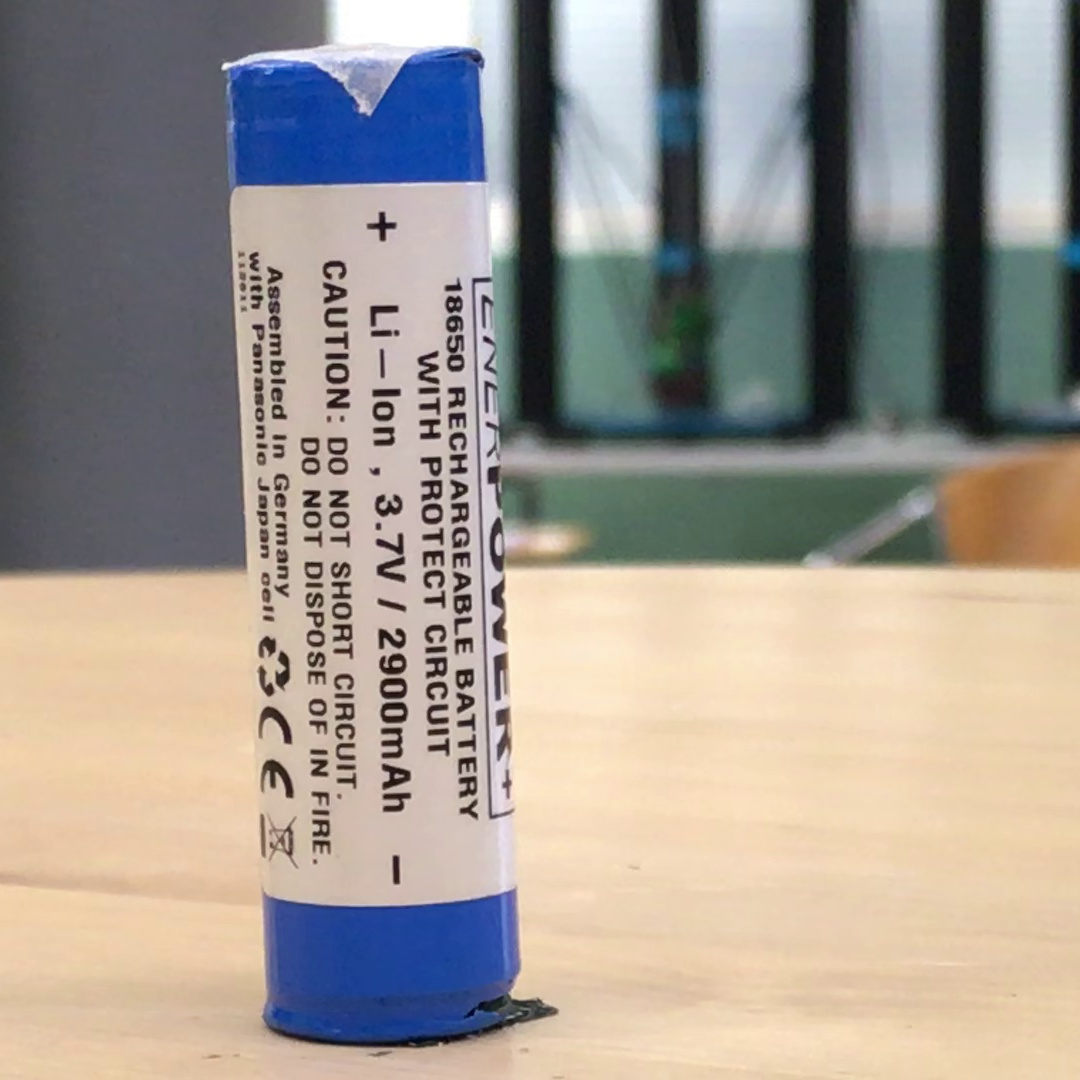keyword: (365, 484, 416, 590)
